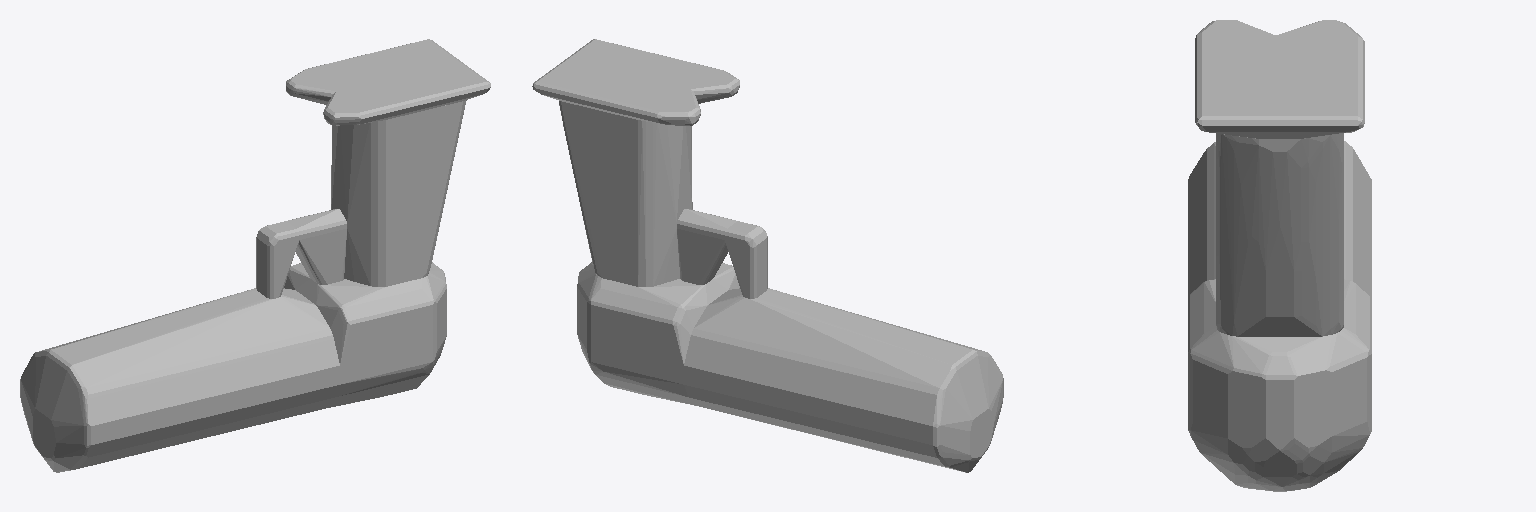
robot.urdf — root:
<robot name="root">
  <link name="link_coacd_convex_piece_0">
    <inertial>
      <origin xyz="0 0 0" rpy="0 0 0"/>
      <inertia ixx="1.51E-02" ixy="-4.64E-06" ixz="-4.18E-06" iyy="1.14E-02" iyz="-6.34E-03" izz="5.24E-03"/>
    </inertial>
    <visual>
      <origin xyz="0 0 0" rpy="0 0 0"/>
      <geometry>
        <mesh filename="coacd_convex_piece_0.obj" scale="1.0000E+00 1.0000E+00 1.0000E+00"/>
      </geometry>
      <material name="">
        <color rgba="7.50E-01 7.50E-01 7.50E-01 1"/>
      </material>
    </visual>
    <collision>
      <origin xyz="0 0 0" rpy="0 0 0"/>
      <geometry>
        <mesh filename="coacd_convex_piece_0.obj" scale="1.0000E+00 1.0000E+00 1.0000E+00"/>
      </geometry>
    </collision>
  </link>
  <link name="link_coacd_convex_piece_1">
    <inertial>
      <origin xyz="0 0 0" rpy="0 0 0"/>
      <inertia ixx="2.53E-02" ixy="-1.29E-05" ixz="1.53E-05" iyy="1.64E-02" iyz="1.24E-02" izz="1.14E-02"/>
    </inertial>
    <visual>
      <origin xyz="0 0 0" rpy="0 0 0"/>
      <geometry>
        <mesh filename="coacd_convex_piece_1.obj" scale="1.0000E+00 1.0000E+00 1.0000E+00"/>
      </geometry>
      <material name="">
        <color rgba="7.50E-01 7.50E-01 7.50E-01 1"/>
      </material>
    </visual>
    <collision>
      <origin xyz="0 0 0" rpy="0 0 0"/>
      <geometry>
        <mesh filename="coacd_convex_piece_1.obj" scale="1.0000E+00 1.0000E+00 1.0000E+00"/>
      </geometry>
    </collision>
  </link>
  <joint name="link_coacd_convex_piece_1_joint" type="fixed">
    <origin xyz="0 0 0" rpy="0 0 0"/>
    <parent link="link_coacd_convex_piece_0"/>
    <child link="link_coacd_convex_piece_1"/>
  </joint>
  <link name="link_coacd_convex_piece_2">
    <inertial>
      <origin xyz="0 0 0" rpy="0 0 0"/>
      <inertia ixx="1.47E-02" ixy="1.79E-06" ixz="2.89E-06" iyy="1.27E-02" iyz="6.46E-03" izz="2.63E-03"/>
    </inertial>
    <visual>
      <origin xyz="0 0 0" rpy="0 0 0"/>
      <geometry>
        <mesh filename="coacd_convex_piece_2.obj" scale="1.0000E+00 1.0000E+00 1.0000E+00"/>
      </geometry>
      <material name="">
        <color rgba="7.50E-01 7.50E-01 7.50E-01 1"/>
      </material>
    </visual>
    <collision>
      <origin xyz="0 0 0" rpy="0 0 0"/>
      <geometry>
        <mesh filename="coacd_convex_piece_2.obj" scale="1.0000E+00 1.0000E+00 1.0000E+00"/>
      </geometry>
    </collision>
  </link>
  <joint name="link_coacd_convex_piece_2_joint" type="fixed">
    <origin xyz="0 0 0" rpy="0 0 0"/>
    <parent link="link_coacd_convex_piece_1"/>
    <child link="link_coacd_convex_piece_2"/>
  </joint>
  <link name="link_coacd_convex_piece_3">
    <inertial>
      <origin xyz="0 0 0" rpy="0 0 0"/>
      <inertia ixx="2.95E-03" ixy="-2.71E-04" ixz="2.60E-04" iyy="1.59E-03" iyz="1.64E-03" izz="1.49E-03"/>
    </inertial>
    <visual>
      <origin xyz="0 0 0" rpy="0 0 0"/>
      <geometry>
        <mesh filename="coacd_convex_piece_3.obj" scale="1.0000E+00 1.0000E+00 1.0000E+00"/>
      </geometry>
      <material name="">
        <color rgba="7.50E-01 7.50E-01 7.50E-01 1"/>
      </material>
    </visual>
    <collision>
      <origin xyz="0 0 0" rpy="0 0 0"/>
      <geometry>
        <mesh filename="coacd_convex_piece_3.obj" scale="1.0000E+00 1.0000E+00 1.0000E+00"/>
      </geometry>
    </collision>
  </link>
  <joint name="link_coacd_convex_piece_3_joint" type="fixed">
    <origin xyz="0 0 0" rpy="0 0 0"/>
    <parent link="link_coacd_convex_piece_2"/>
    <child link="link_coacd_convex_piece_3"/>
  </joint>
  <link name="link_coacd_convex_piece_4">
    <inertial>
      <origin xyz="0 0 0" rpy="0 0 0"/>
      <inertia ixx="6.49E-05" ixy="1.42E-07" ixz="9.23E-08" iyy="1.28E-04" iyz="6.39E-05" izz="-5.90E-05"/>
    </inertial>
    <visual>
      <origin xyz="0 0 0" rpy="0 0 0"/>
      <geometry>
        <mesh filename="coacd_convex_piece_4.obj" scale="1.0000E+00 1.0000E+00 1.0000E+00"/>
      </geometry>
      <material name="">
        <color rgba="7.50E-01 7.50E-01 7.50E-01 1"/>
      </material>
    </visual>
    <collision>
      <origin xyz="0 0 0" rpy="0 0 0"/>
      <geometry>
        <mesh filename="coacd_convex_piece_4.obj" scale="1.0000E+00 1.0000E+00 1.0000E+00"/>
      </geometry>
    </collision>
  </link>
  <joint name="link_coacd_convex_piece_4_joint" type="fixed">
    <origin xyz="0 0 0" rpy="0 0 0"/>
    <parent link="link_coacd_convex_piece_3"/>
    <child link="link_coacd_convex_piece_4"/>
  </joint>
  <link name="link_coacd_convex_piece_5">
    <inertial>
      <origin xyz="0 0 0" rpy="0 0 0"/>
      <inertia ixx="-4.65E-05" ixy="8.78E-08" ixz="5.73E-08" iyy="-8.13E-06" iyz="3.33E-05" izz="-3.59E-05"/>
    </inertial>
    <visual>
      <origin xyz="0 0 0" rpy="0 0 0"/>
      <geometry>
        <mesh filename="coacd_convex_piece_5.obj" scale="1.0000E+00 1.0000E+00 1.0000E+00"/>
      </geometry>
      <material name="">
        <color rgba="7.50E-01 7.50E-01 7.50E-01 1"/>
      </material>
    </visual>
    <collision>
      <origin xyz="0 0 0" rpy="0 0 0"/>
      <geometry>
        <mesh filename="coacd_convex_piece_5.obj" scale="1.0000E+00 1.0000E+00 1.0000E+00"/>
      </geometry>
    </collision>
  </link>
  <joint name="link_coacd_convex_piece_5_joint" type="fixed">
    <origin xyz="0 0 0" rpy="0 0 0"/>
    <parent link="link_coacd_convex_piece_4"/>
    <child link="link_coacd_convex_piece_5"/>
  </joint>
  <link name="link_coacd_convex_piece_6">
    <inertial>
      <origin xyz="0 0 0" rpy="0 0 0"/>
      <inertia ixx="2.66E-03" ixy="2.73E-04" ixz="-2.60E-04" iyy="1.44E-03" iyz="1.48E-03" izz="1.35E-03"/>
    </inertial>
    <visual>
      <origin xyz="0 0 0" rpy="0 0 0"/>
      <geometry>
        <mesh filename="coacd_convex_piece_6.obj" scale="1.0000E+00 1.0000E+00 1.0000E+00"/>
      </geometry>
      <material name="">
        <color rgba="7.50E-01 7.50E-01 7.50E-01 1"/>
      </material>
    </visual>
    <collision>
      <origin xyz="0 0 0" rpy="0 0 0"/>
      <geometry>
        <mesh filename="coacd_convex_piece_6.obj" scale="1.0000E+00 1.0000E+00 1.0000E+00"/>
      </geometry>
    </collision>
  </link>
  <joint name="link_coacd_convex_piece_6_joint" type="fixed">
    <origin xyz="0 0 0" rpy="0 0 0"/>
    <parent link="link_coacd_convex_piece_5"/>
    <child link="link_coacd_convex_piece_6"/>
  </joint>
</robot>

--- What the picture shows (computed from the rendered views, not written in the file) ---
Views: 3 orthographic renders of the robot side by side, from view 1: azimuth 30°, elevation 25°; view 2: azimuth 150°, elevation 25°; view 3: azimuth 270°, elevation 25°.
Model root with 7 links and 6 joints (6 fixed), rooted at link_coacd_convex_piece_0, posed all joints at 0.
Visible links, largest first — view 1: link_coacd_convex_piece_1, link_coacd_convex_piece_2, link_coacd_convex_piece_0, link_coacd_convex_piece_6, link_coacd_convex_piece_3, link_coacd_convex_piece_4, link_coacd_convex_piece_5; view 2: link_coacd_convex_piece_1, link_coacd_convex_piece_2, link_coacd_convex_piece_0, link_coacd_convex_piece_3, link_coacd_convex_piece_6, link_coacd_convex_piece_4, link_coacd_convex_piece_5; view 3: link_coacd_convex_piece_0, link_coacd_convex_piece_2, link_coacd_convex_piece_3, link_coacd_convex_piece_6, link_coacd_convex_piece_1.
Boxes of the visible links, x1,y1,x2,y2 form: link_coacd_convex_piece_1: (20,288,339,472); link_coacd_convex_piece_2: (331,100,466,286); link_coacd_convex_piece_0: (284,262,446,408); link_coacd_convex_piece_6: (323,62,490,125); link_coacd_convex_piece_3: (286,39,460,104); link_coacd_convex_piece_4: (287,209,346,284); link_coacd_convex_piece_5: (256,221,298,298); link_coacd_convex_piece_1: (684,288,1003,472); link_coacd_convex_piece_2: (559,101,692,286); link_coacd_convex_piece_0: (577,262,739,405); link_coacd_convex_piece_3: (532,59,700,125); link_coacd_convex_piece_6: (565,39,739,103); link_coacd_convex_piece_4: (677,209,736,284); link_coacd_convex_piece_5: (725,221,767,298); link_coacd_convex_piece_0: (1188,279,1371,491); link_coacd_convex_piece_2: (1216,133,1343,336); link_coacd_convex_piece_3: (1276,20,1364,138); link_coacd_convex_piece_6: (1195,20,1275,138); link_coacd_convex_piece_1: (1188,141,1371,298).
Bounding box of the posed robot: 1.56 × 0.4409 × 1.12 m (x, y, z).
Meshes: 7 distinct files referenced, 7 mesh visuals loaded (7 OBJ).
